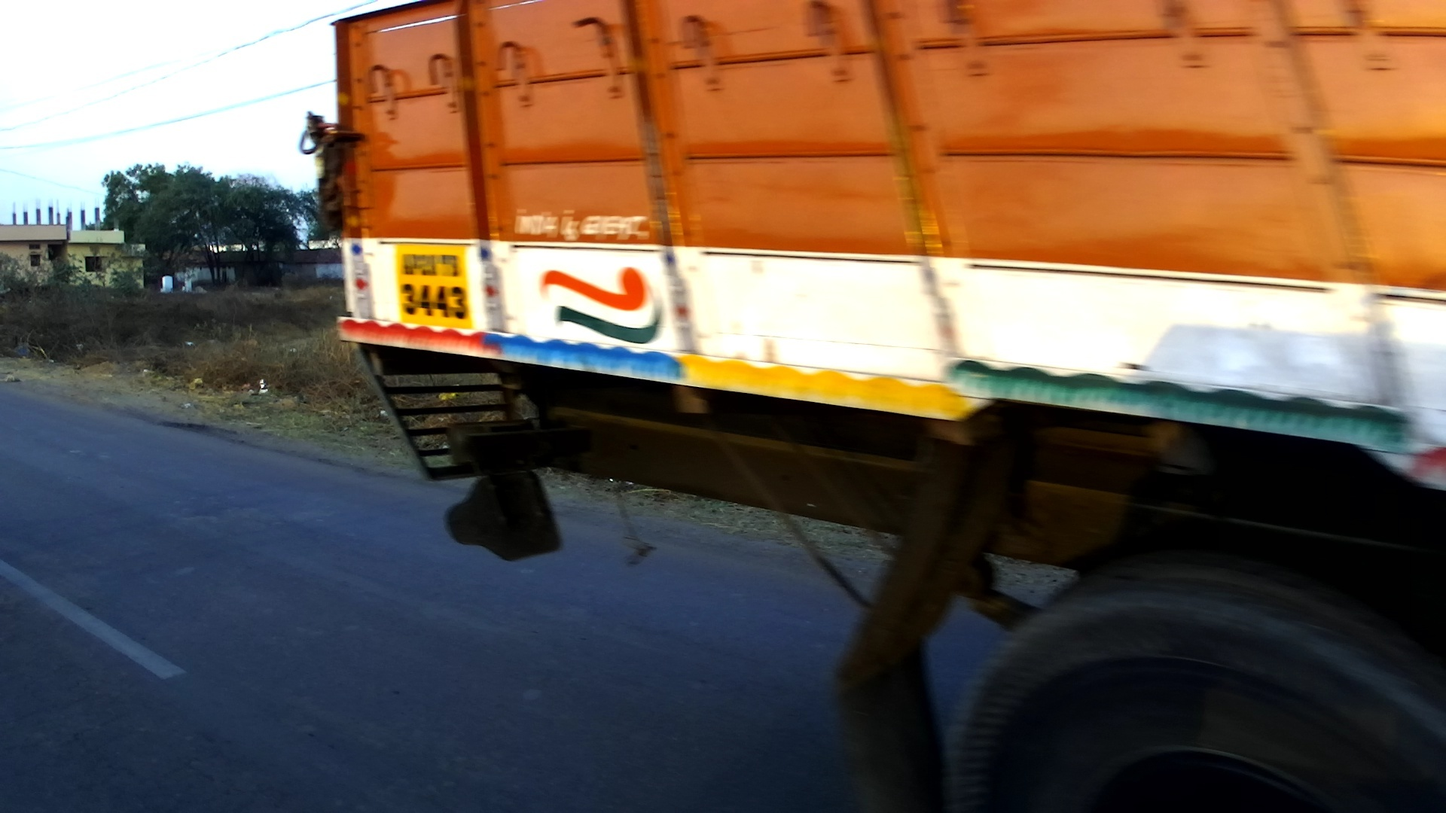truck: (300, 1, 1446, 813)
